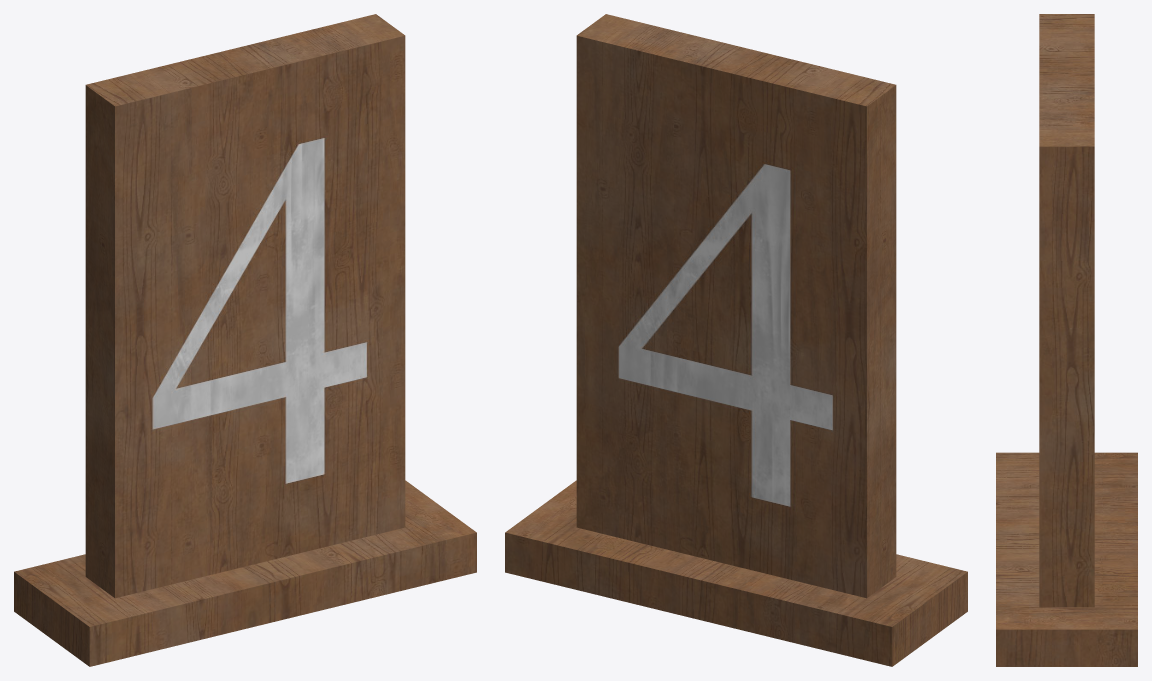
Rendered from Number04Virginia.fbx.
The picture shows the model from 3 angles, left to right: view 1: azimuth 30°, elevation 25°; view 2: azimuth 150°, elevation 25°; view 3: azimuth 270°, elevation 25°; orthographic projection. The views are drawn at different scales.
Visible parts, largest first — view 1: Number04; view 2: Number04; view 3: Number04.
Part boxes in pixels (x1,y1,x2,y2): Number04: [14, 14, 476, 666]; Number04: [505, 14, 967, 666]; Number04: [996, 14, 1137, 666].
Bounding box in the file's own units: 5.89 × 7.73 × 1.99.
Materials: 1 (1 with a texture image).
